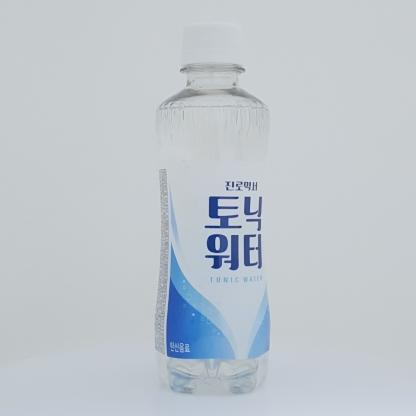----------300ML: (155, 22, 270, 394)
